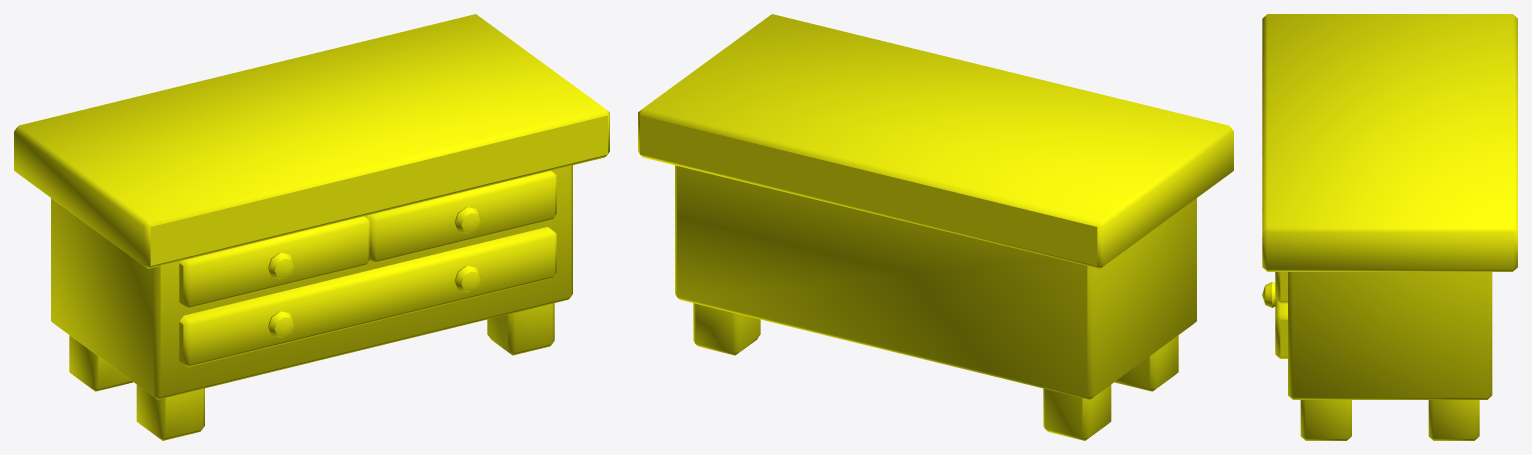
Rendered from kaykit-cabinet-medium.glb.
3 renders of one model, left to right at view 1: azimuth 30°, elevation 25°; view 2: azimuth 150°, elevation 25°; view 3: azimuth 270°, elevation 25°, orthographic. The views are drawn at different scales.
Visible parts, largest first — view 1: cabinet_medium; view 2: cabinet_medium; view 3: cabinet_medium.
Boxes of the visible parts, x1,y1,x2,y2 form: cabinet_medium: (14, 14, 609, 440); cabinet_medium: (638, 14, 1233, 440); cabinet_medium: (1262, 14, 1517, 440).
Size of the model in its own units: 2 by 1 by 1.
